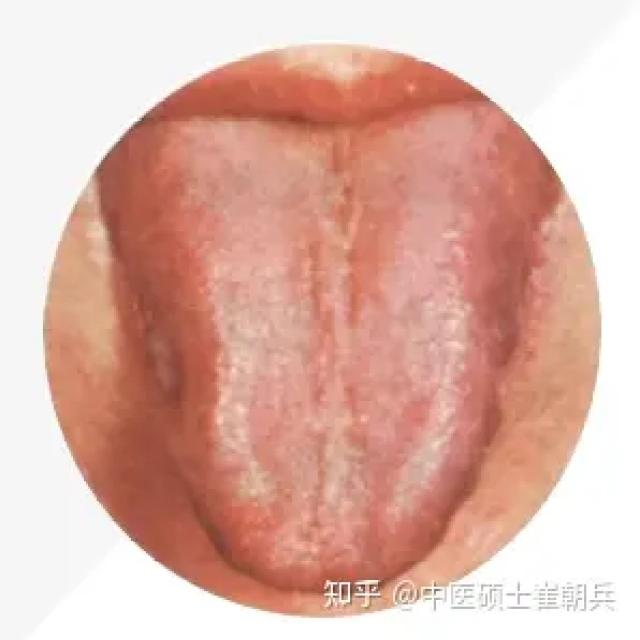tongue: (104, 118, 548, 582)
